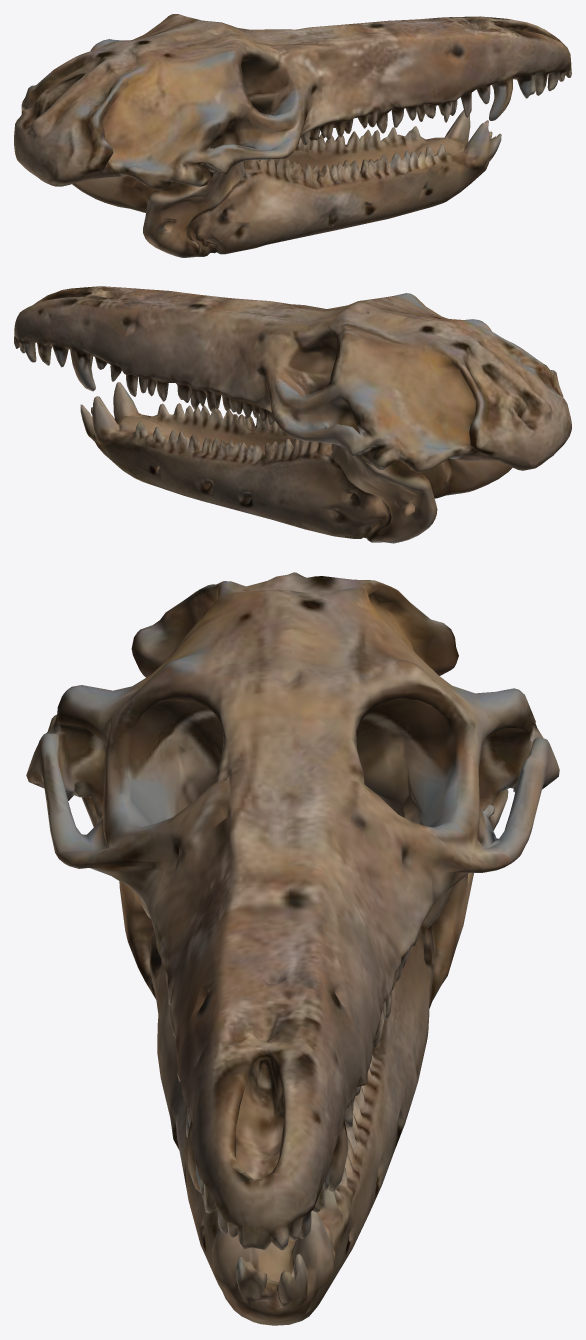
The model's file is whale.glb.
3 renders of one model, top to bottom at view 1: azimuth 30°, elevation 25°; view 2: azimuth 150°, elevation 25°; view 3: azimuth 270°, elevation 25°, orthographic. The views are drawn at different scales.
Visible parts, largest first — view 1: tripo_node_45734f60-0212-4ac8-a821-62f5ed0fbcde; view 2: tripo_node_45734f60-0212-4ac8-a821-62f5ed0fbcde; view 3: tripo_node_45734f60-0212-4ac8-a821-62f5ed0fbcde.
Part boxes in pixels (x1,y1,x2,y2): tripo_node_45734f60-0212-4ac8-a821-62f5ed0fbcde: (14,14,571,257); tripo_node_45734f60-0212-4ac8-a821-62f5ed0fbcde: (14,286,571,543); tripo_node_45734f60-0212-4ac8-a821-62f5ed0fbcde: (26,572,559,1325).
Size of the model in its own units: 0.35 by 0.1391 by 0.1522.
Materials: 1 (1 with a texture image).
